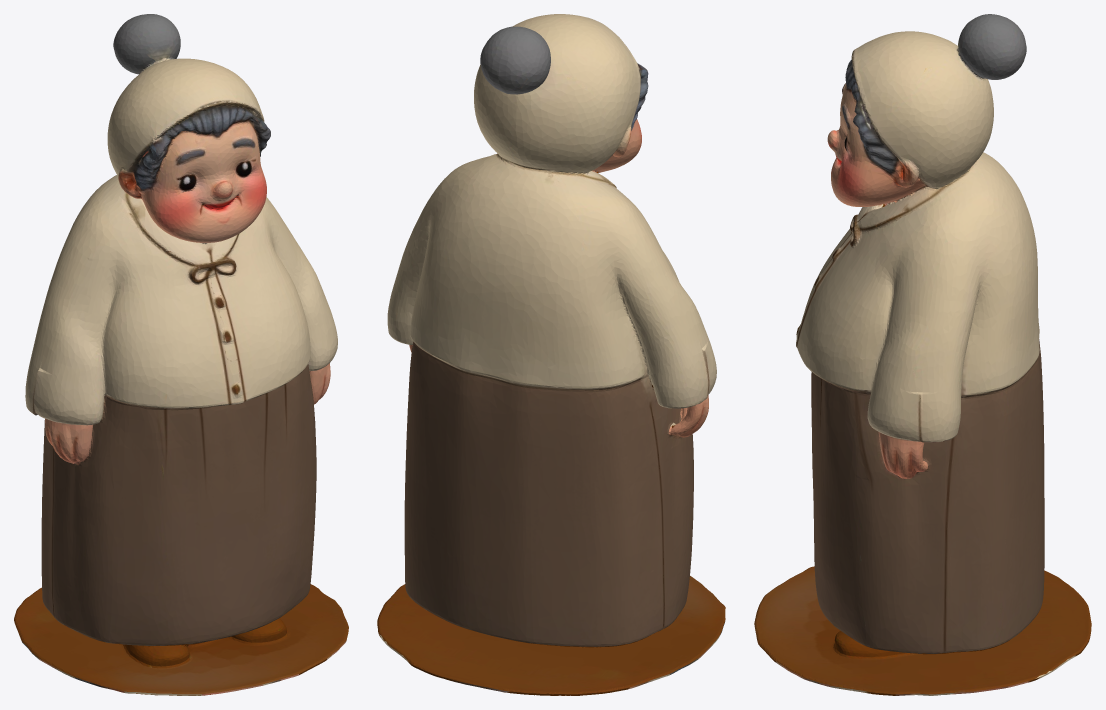
Rendered from garak_cust_granny.glb.
3 renders of one model, left to right at view 1: azimuth 30°, elevation 25°; view 2: azimuth 150°, elevation 25°; view 3: azimuth 270°, elevation 25°, orthographic. The views are drawn at different scales.
Visible parts, largest first — view 1: garak_cust_granny.obj; view 2: garak_cust_granny.obj; view 3: garak_cust_granny.obj.
Part boxes in pixels (x1,y1,x2,y2): garak_cust_granny.obj: (14, 14, 348, 695); garak_cust_granny.obj: (377, 14, 725, 695); garak_cust_granny.obj: (754, 14, 1091, 695).
Size of the model in its own units: 1.05 by 1.97 by 0.9903.
1 material, 1 textured.
